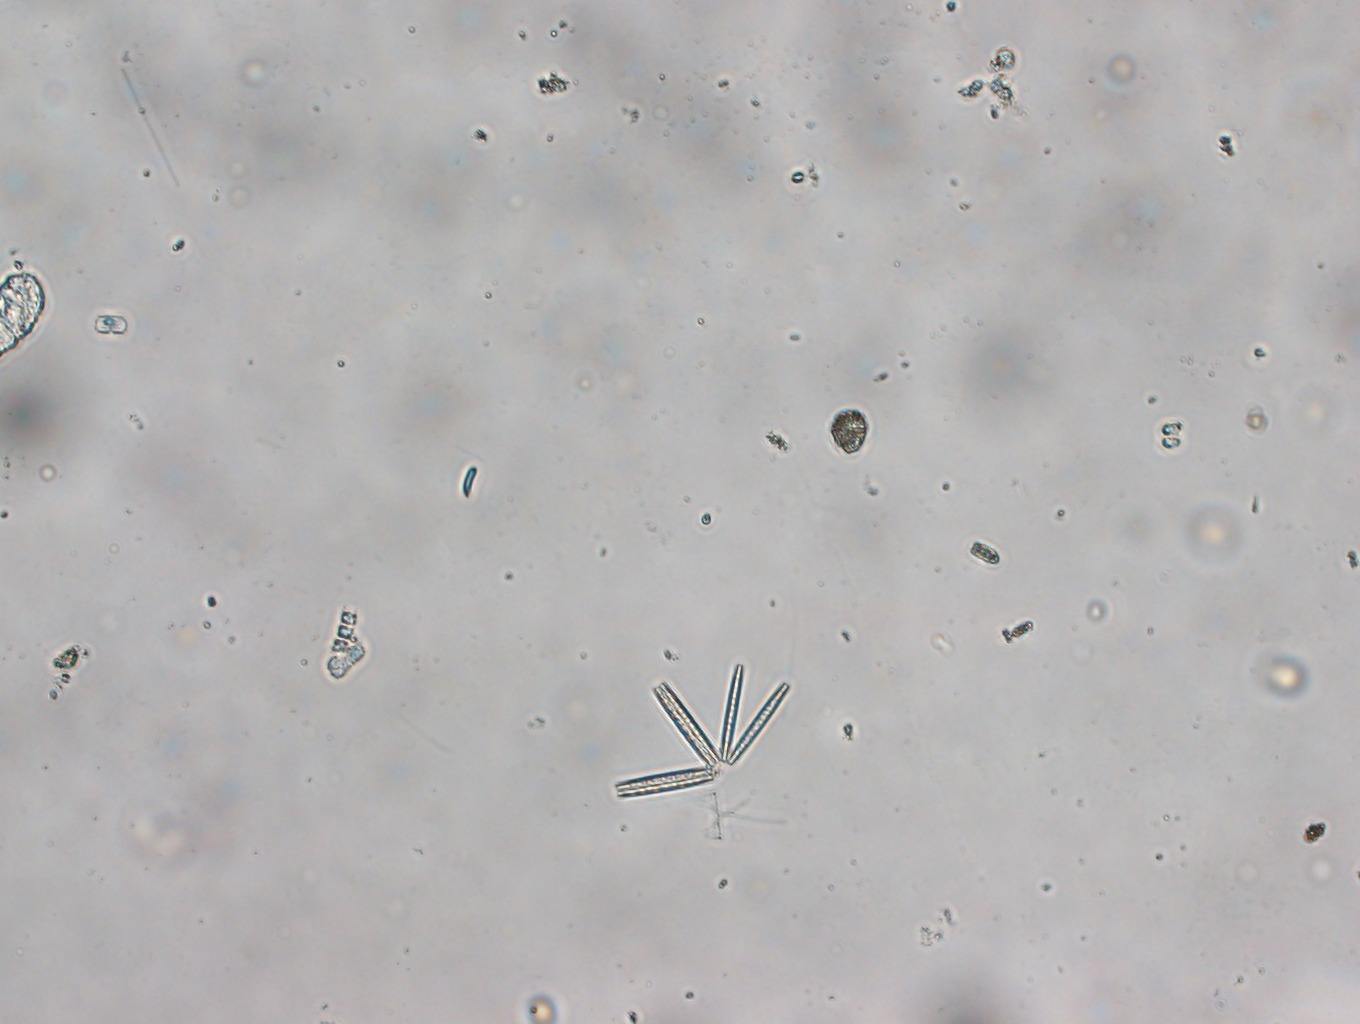thalassionema nitzschioides: (614, 664, 789, 799)
